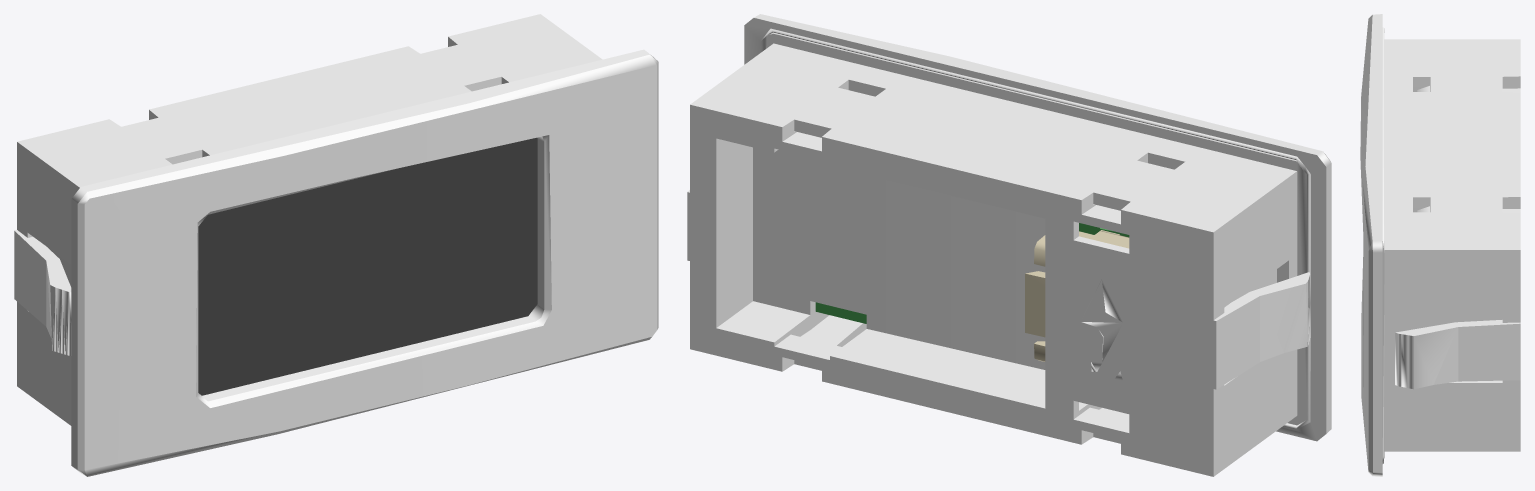
The model's file is wurm-dsp-lcd-low.glb.
The picture shows the model from 3 angles, left to right: view 1: azimuth 30°, elevation 25°; view 2: azimuth 150°, elevation 25°; view 3: azimuth 270°, elevation 25°; orthographic projection. The views are drawn at different scales.
Parts seen in each view (by area): view 1: NAUO1; view 2: NAUO1; view 3: NAUO1.
Part boxes in pixels (x1,y1,x2,y2): NAUO1: (14,14,658,476); NAUO1: (687,14,1331,476); NAUO1: (1360,14,1520,476).
Bounding box in the file's own units: 0.0628 × 0.0295 × 0.0181.
1 material, 1 textured.
